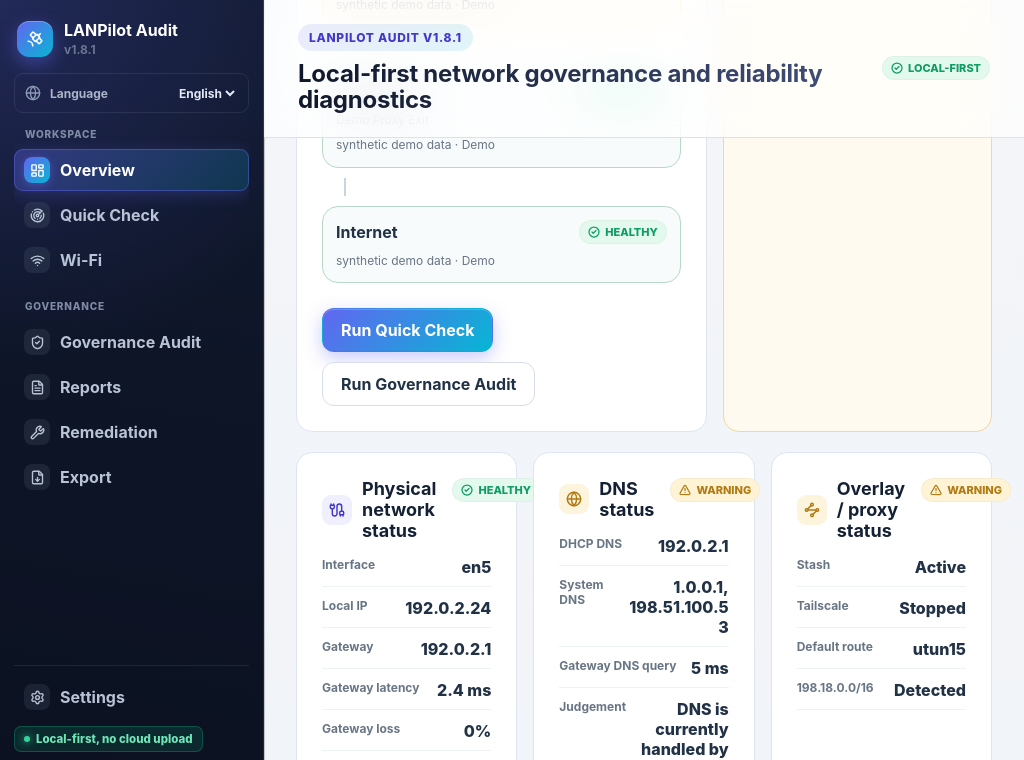
Scenario: audit authorization and failure flow › does not deadlock authorization behind an outdated-but-present engine
(page scrolled)
Click the button "Run Governance Audit" at (429, 384), box [322,362,535,406]
(page scrolled)
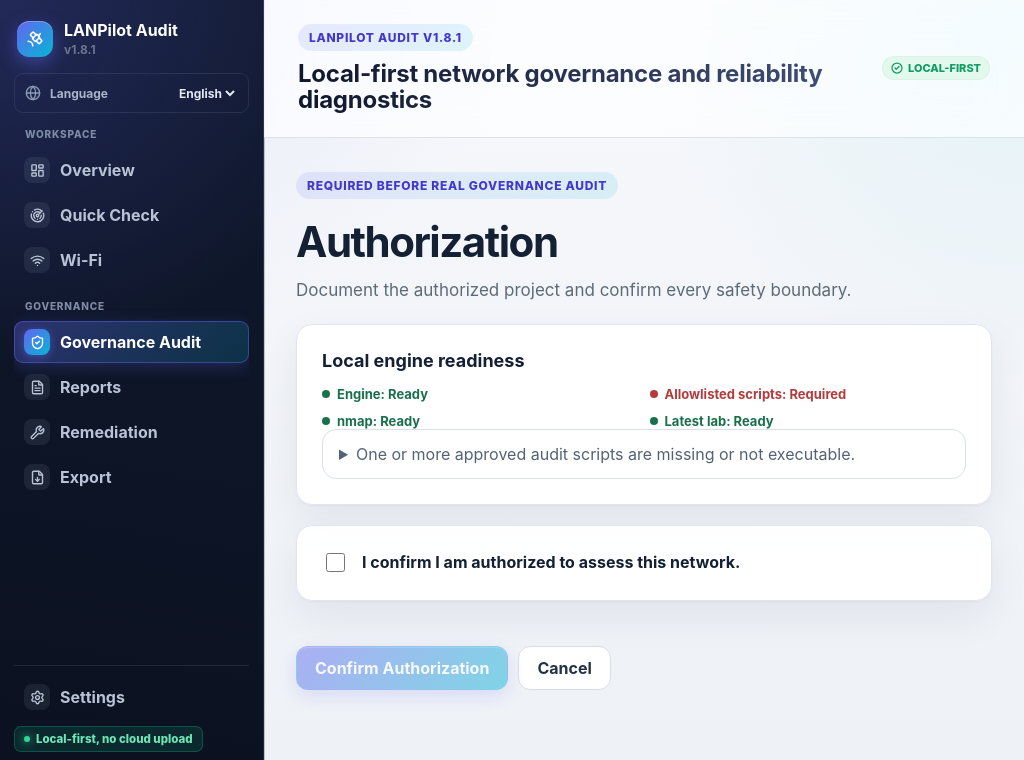
expect the text "Engine: Ready" is shown: met, box [322,386,428,402]
expect the button "Confirm Authorization" is disabled: met, box [296,646,508,690]
Click the checkbox at (336, 563), box [326,553,345,572]
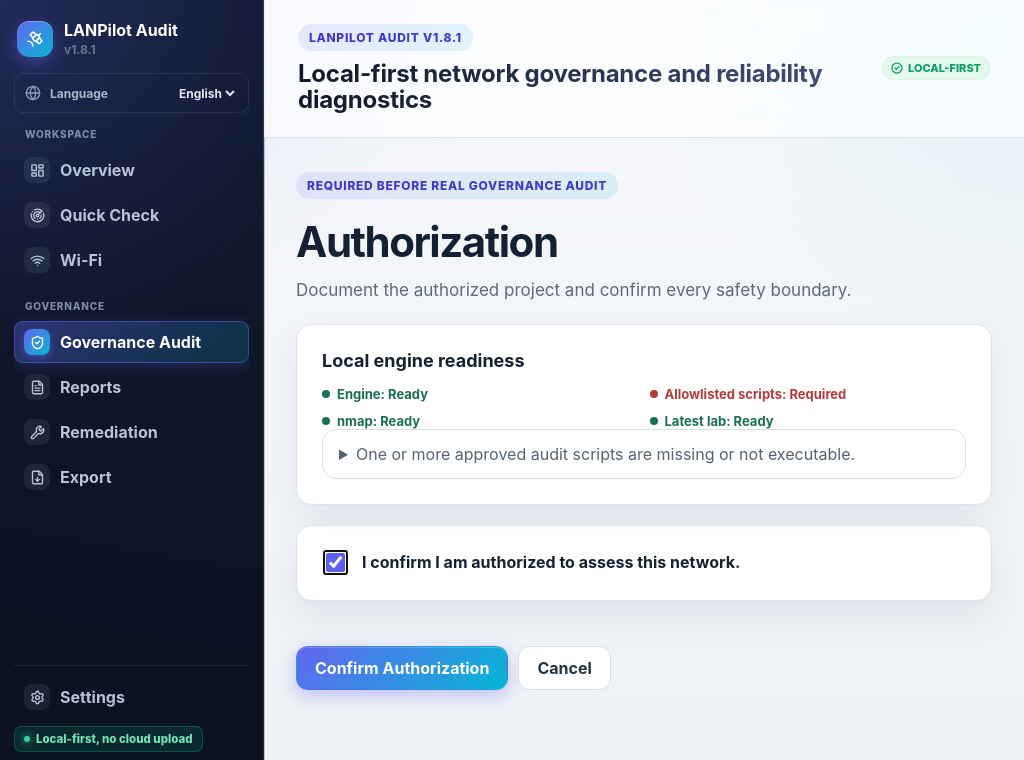
expect the button "Confirm Authorization" is enabled: met, box [296,646,508,690]
